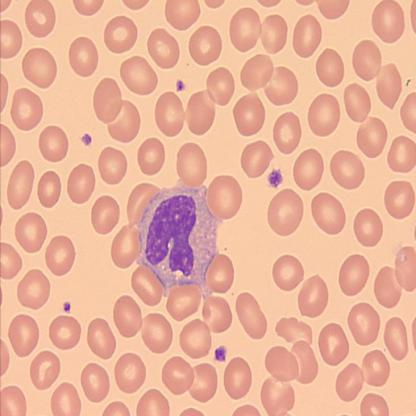Monocyte: (134, 180, 222, 302)
